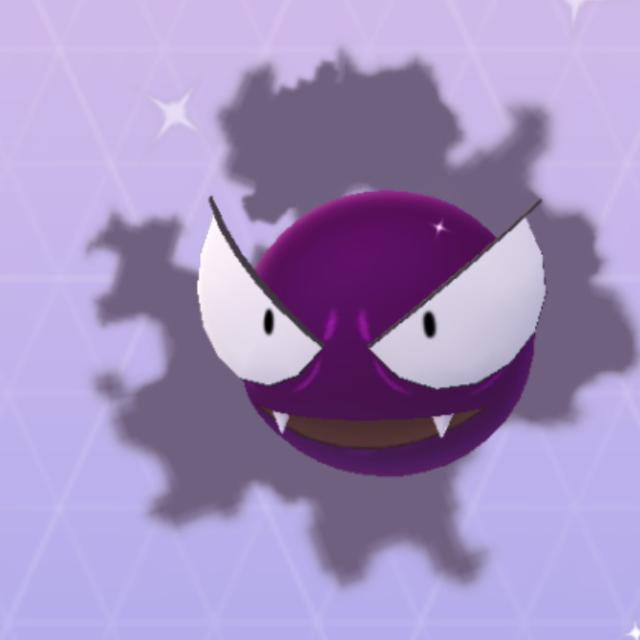Gastly: (182, 162, 542, 495)
